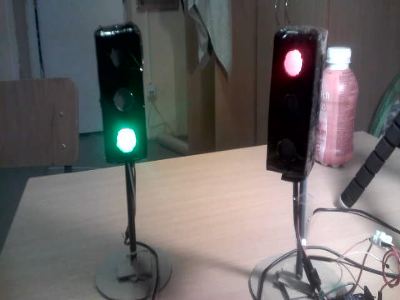trafficlight_green: (100, 32, 146, 159)
trafficlight_red: (269, 38, 317, 170)
